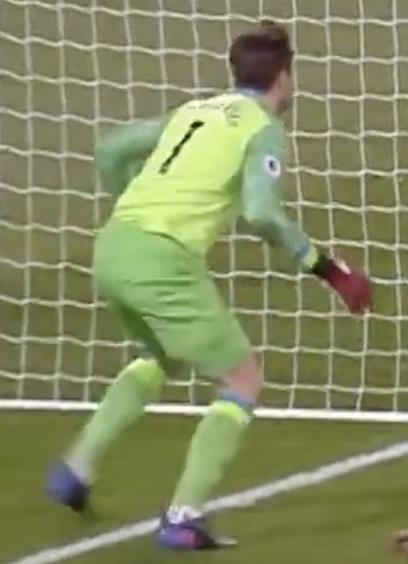goalkeeper: (5, 0, 408, 562)
